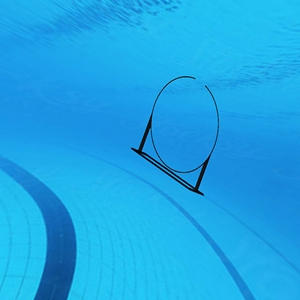circle: (129, 72, 223, 197)
